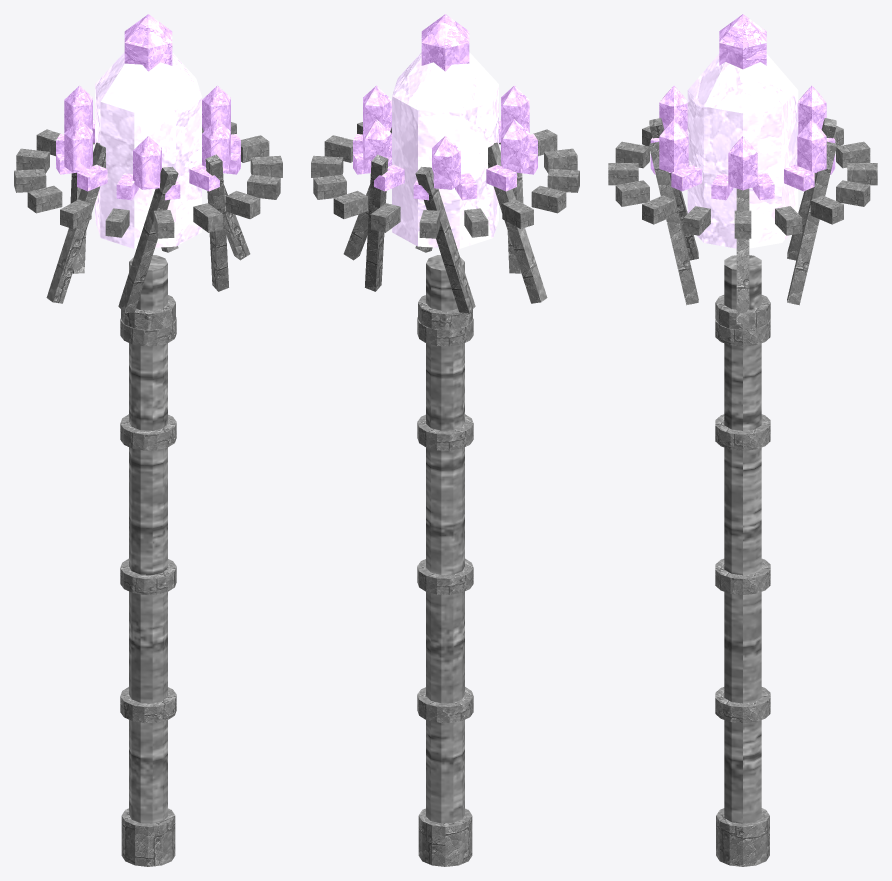
File: staff-seidr-master.glb
3 views of the same model, side by side, from view 1: azimuth 30°, elevation 25°; view 2: azimuth 150°, elevation 25°; view 3: azimuth 270°, elevation 25° (orthographic).
Parts seen in each view (by area): view 1: shaft, master-core, pommel, loom-arm-2, omen-heart, loom-arm-3, loom-arm-1, band-0.24, band--0.12, band--0.44, node-2, node-3 (+19 smaller); view 2: shaft, master-core, pommel, loom-arm-4, omen-heart, loom-arm-3, loom-arm-5, band-0.24, band--0.12, band--0.44, node-4, node-3 (+19 smaller); view 3: shaft, master-core, pommel, omen-heart, loom-arm-1, loom-arm-5, loom-arm-0, band-0.24, band--0.44, band--0.12, node-0, node-1 (+19 smaller).
Boxes of the visible parts, x1,y1,x2,y2 form: shaft: [129, 255, 167, 823]; master-core: [95, 52, 201, 248]; pommel: [121, 808, 175, 866]; loom-arm-2: [118, 166, 178, 313]; omen-heart: [124, 14, 172, 71]; loom-arm-3: [46, 142, 105, 303]; loom-arm-1: [205, 154, 228, 291]; band-0.24: [120, 414, 176, 450]; band--0.12: [120, 558, 176, 594]; band--0.44: [120, 687, 176, 723]; node-2: [133, 136, 161, 189]; node-3: [64, 119, 92, 172]; shaft: [426, 255, 464, 823]; master-core: [392, 52, 498, 248]; pommel: [418, 808, 472, 866]; loom-arm-4: [415, 166, 475, 313]; omen-heart: [421, 14, 469, 71]; loom-arm-3: [488, 142, 547, 303]; loom-arm-5: [365, 154, 388, 291]; band-0.24: [417, 414, 473, 450]; band--0.12: [417, 558, 473, 594]; band--0.44: [417, 687, 473, 723]; node-4: [432, 136, 460, 189]; node-3: [501, 119, 529, 172]; shaft: [724, 255, 761, 823]; master-core: [687, 54, 798, 248]; pommel: [716, 808, 769, 866]; omen-heart: [719, 14, 766, 69]; loom-arm-1: [649, 141, 698, 305]; loom-arm-5: [787, 141, 836, 305]; loom-arm-0: [736, 188, 749, 324]; band-0.24: [715, 414, 770, 450]; band--0.44: [715, 687, 770, 723]; band--0.12: [715, 558, 770, 594]; node-0: [728, 136, 757, 190]; node-1: [659, 119, 688, 172].
Bounding box in the file's own units: 0.6084 × 2.1 × 0.6084.
Materials: 5 (5 with a texture image).
